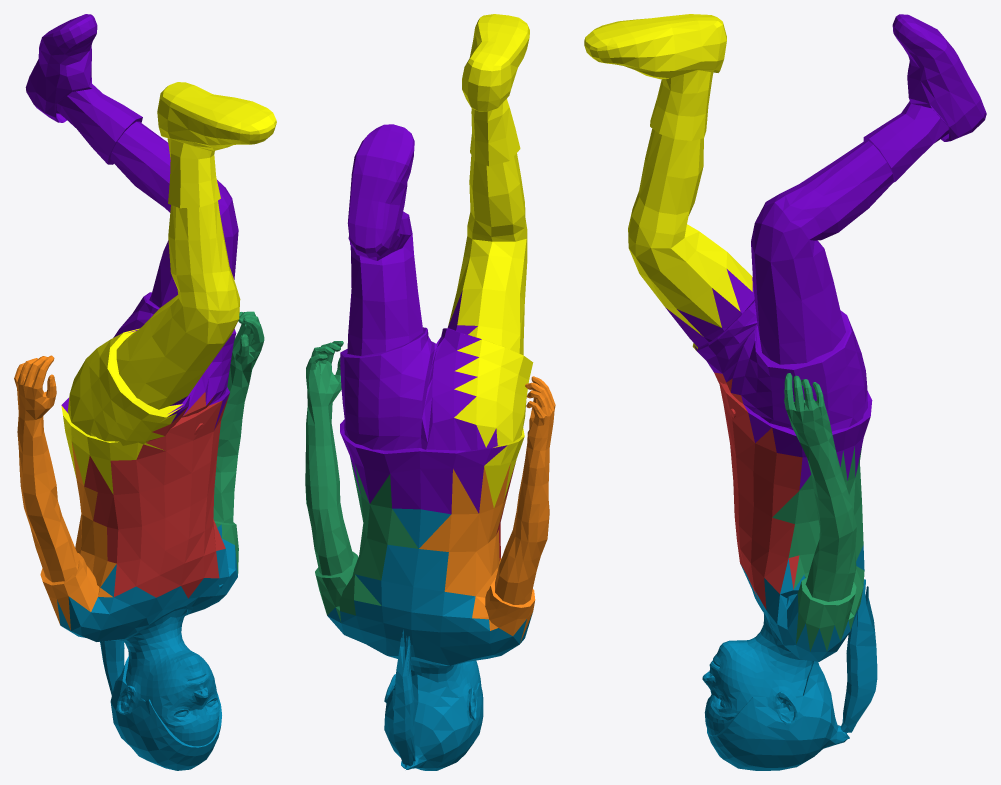
File: segmented_child_luac.obj
3 views of the same model, side by side, from view 1: azimuth 30°, elevation 25°; view 2: azimuth 150°, elevation 25°; view 3: azimuth 270°, elevation 25° (orthographic). The views are drawn at different scales.
Parts seen in each view (by area): view 1: segmented_child_mesh; view 2: segmented_child_mesh; view 3: segmented_child_mesh.
Part boxes in pixels (bbox=[...]): segmented_child_mesh: bbox=[14, 14, 276, 770]; segmented_child_mesh: bbox=[305, 14, 555, 770]; segmented_child_mesh: bbox=[584, 14, 986, 770].
Size of the model in its own units: 0.3766 by 1.04 by 0.514.
